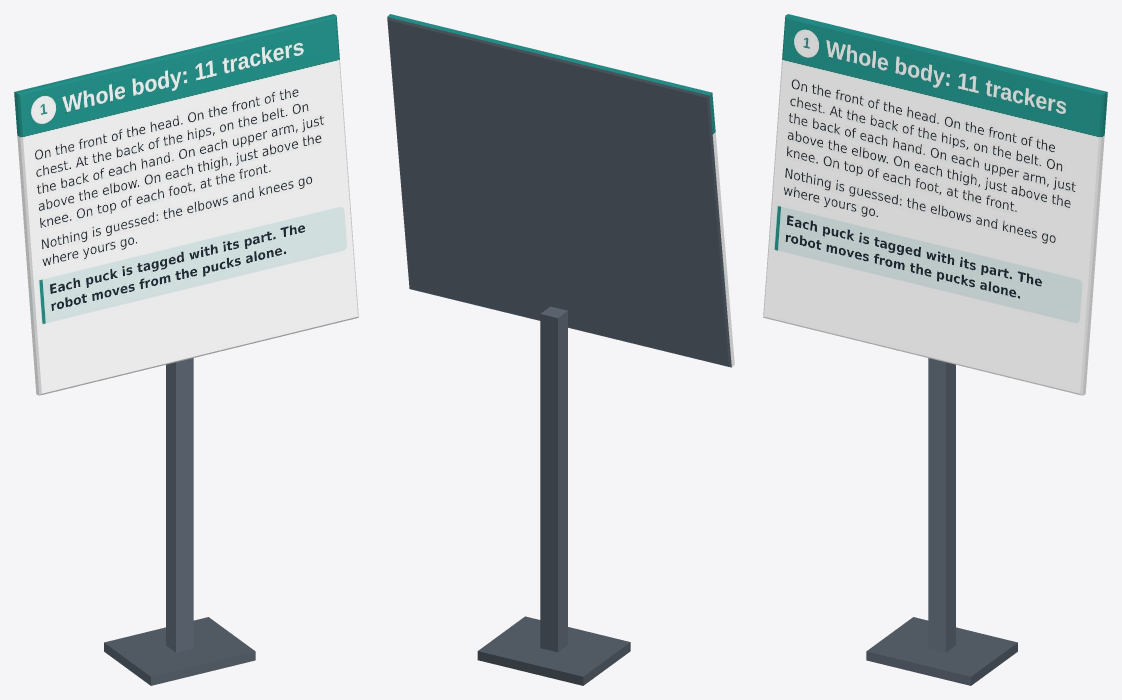
Rendered from 01-whole-body-11-trackers.glb.
3 renders of one model, left to right at view 1: azimuth 30°, elevation 25°; view 2: azimuth 150°, elevation 25°; view 3: azimuth 330°, elevation 25°, orthographic.
Visible parts, largest first — view 1: board; view 2: board; view 3: board.
Part boxes in pixels (x1,y1,x2,y2): board: [14, 14, 358, 685]; board: [387, 14, 734, 685]; board: [763, 14, 1107, 685].
Bounding box in the file's own units: 1.1 × 1.97 × 0.28.
Materials: 1 (1 with a texture image).
